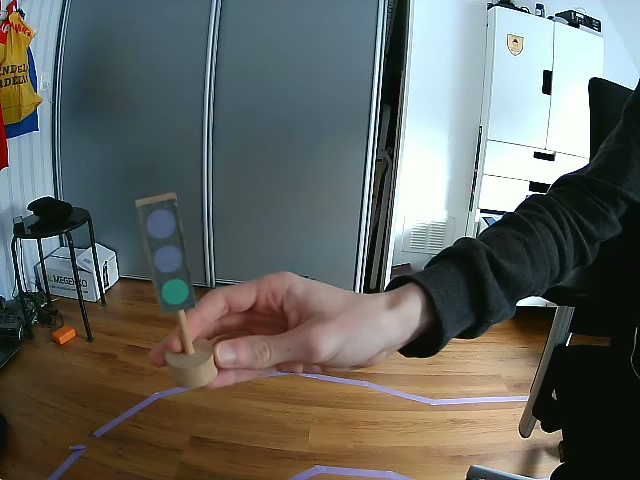groenlicht: (137, 193, 192, 314)
